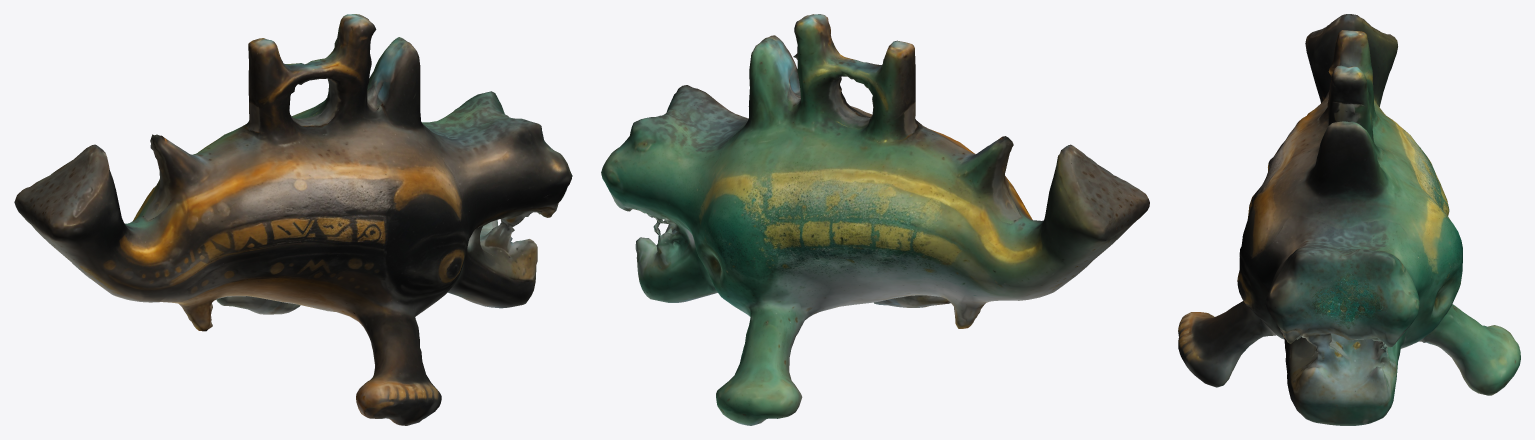
The model's file is Nazca_pottery2_0727142425.fbx.
3 views of the same model, side by side, from view 1: azimuth 30°, elevation 25°; view 2: azimuth 150°, elevation 25°; view 3: azimuth 270°, elevation 25° (orthographic). The views are drawn at different scales.
Visible parts, largest first — view 1: Mesh_0; view 2: Mesh_0; view 3: Mesh_0.
Boxes of the visible parts, box(x1,y1,x2,y2) form: Mesh_0: box(14, 14, 572, 425); Mesh_0: box(601, 14, 1149, 425); Mesh_0: box(1178, 14, 1520, 425).
Bounding box in the file's own units: 120 × 79.4 × 76.09.
Materials: 1 (1 with a texture image).
